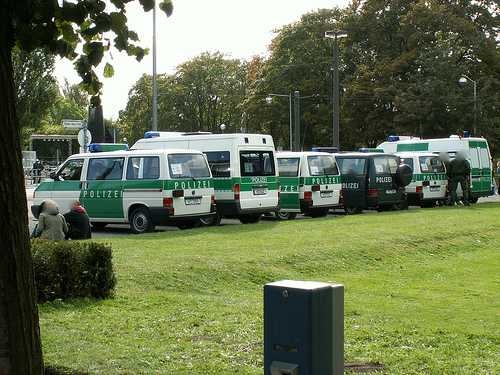Police Van: (41, 130, 235, 251), (158, 119, 308, 225), (428, 123, 500, 210), (280, 144, 360, 217), (380, 135, 456, 205)
